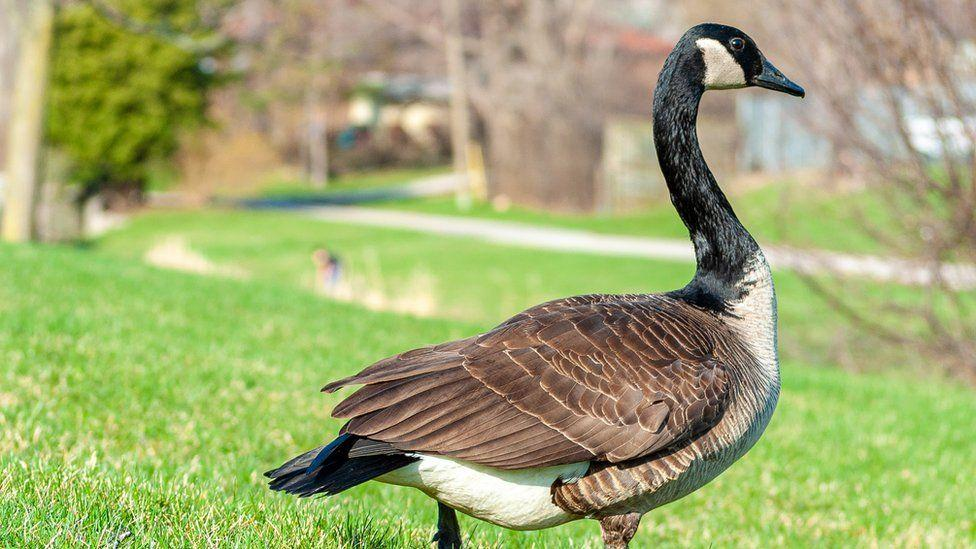Canadian-Goose: (274, 20, 810, 546)
